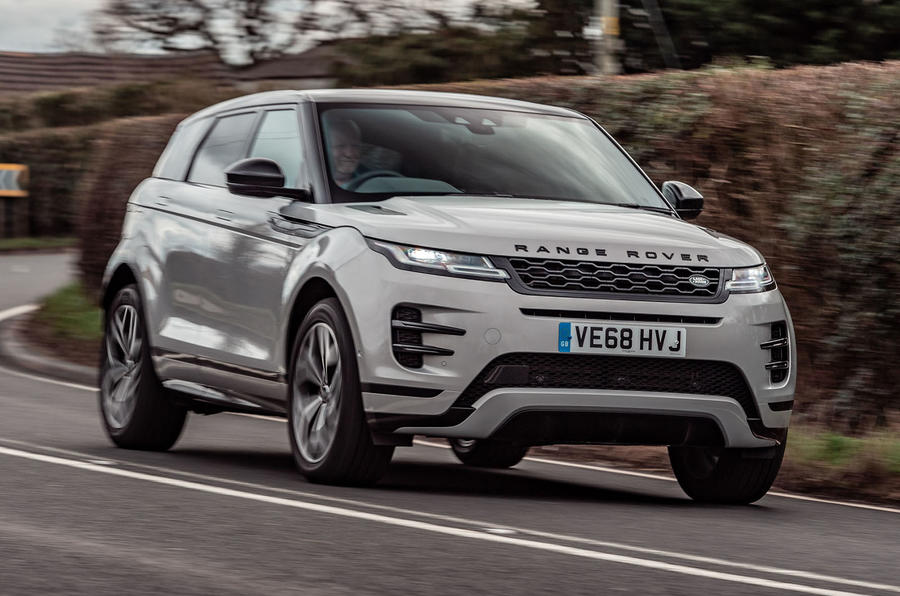car: (96, 86, 796, 508)
